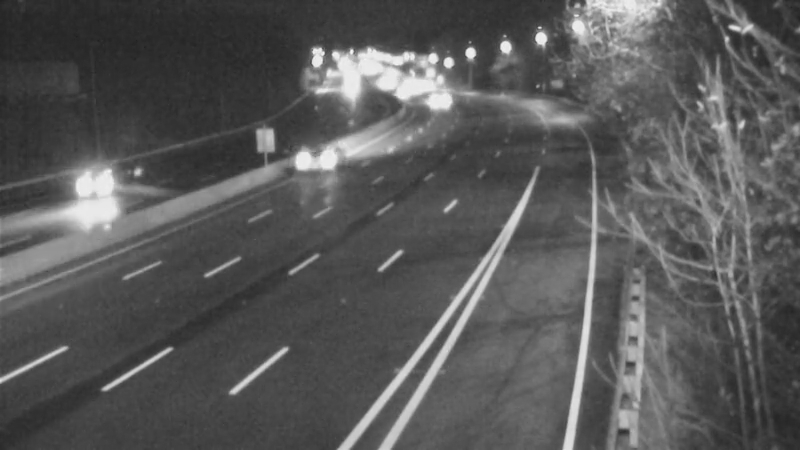vehicle: (276, 123, 356, 203), (62, 137, 142, 217), (419, 73, 469, 123)
